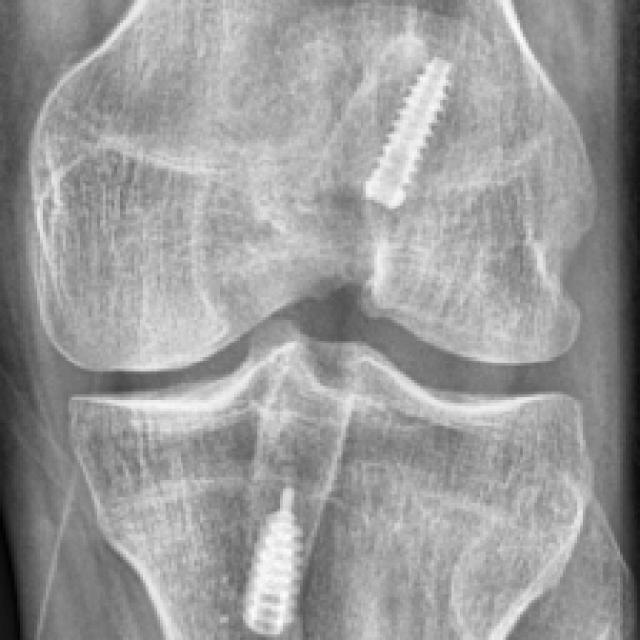femur: (26, 0, 601, 372)
tibia: (67, 335, 594, 637)
